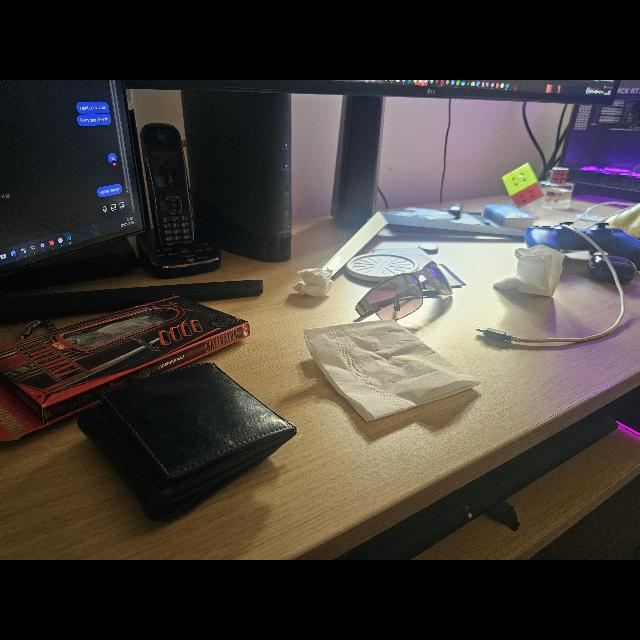Sunglasses: (356, 260, 452, 320)
Wallet: (78, 364, 296, 520)
